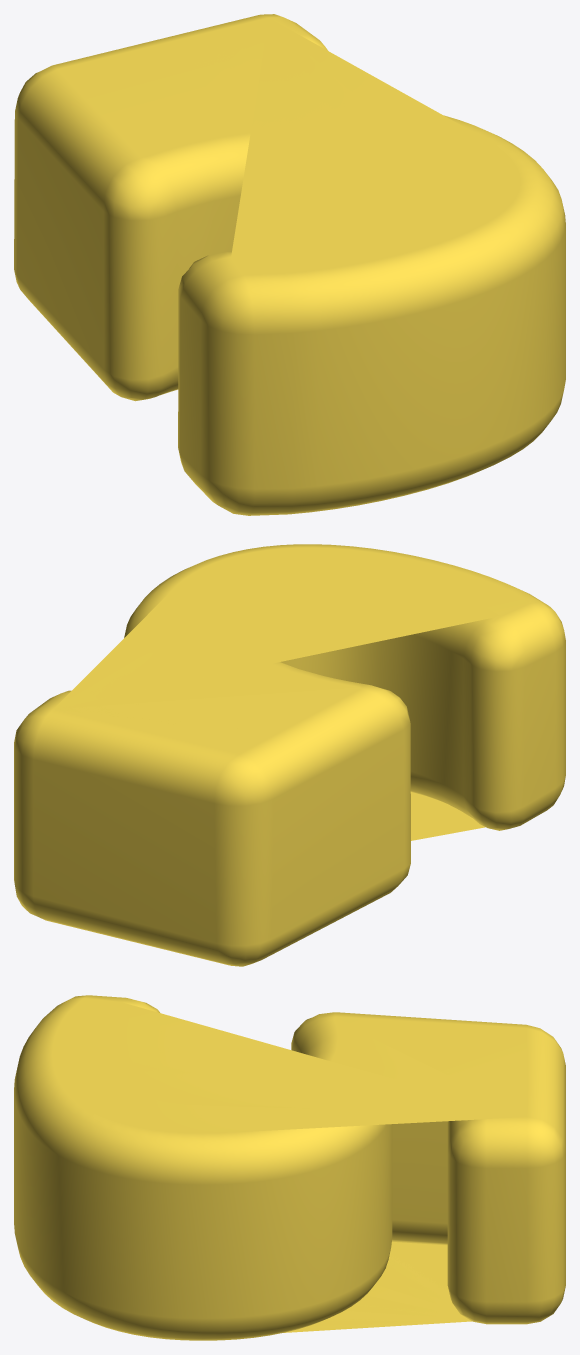
File: Five.fbx
3 renders of one model, top to bottom at view 1: azimuth 30°, elevation 25°; view 2: azimuth 150°, elevation 25°; view 3: azimuth 270°, elevation 25°, orthographic. The views are drawn at different scales.
Parts seen in each view (by area): view 1: polySurface5; view 2: polySurface5; view 3: polySurface5.
Boxes of the visible parts, left/top/right/bottom form: polySurface5: left=14, top=14, right=565, bottom=515; polySurface5: left=14, top=544, right=565, bottom=966; polySurface5: left=14, top=995, right=565, bottom=1340.
Bounding box in the file's own units: 0.427 × 0.2429 × 0.5967.
Materials: 1 (1 with a texture image).
